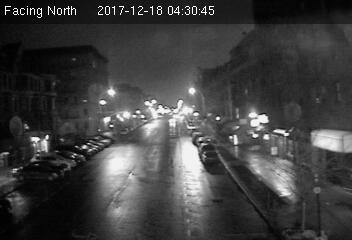car: (201, 150, 221, 166)
